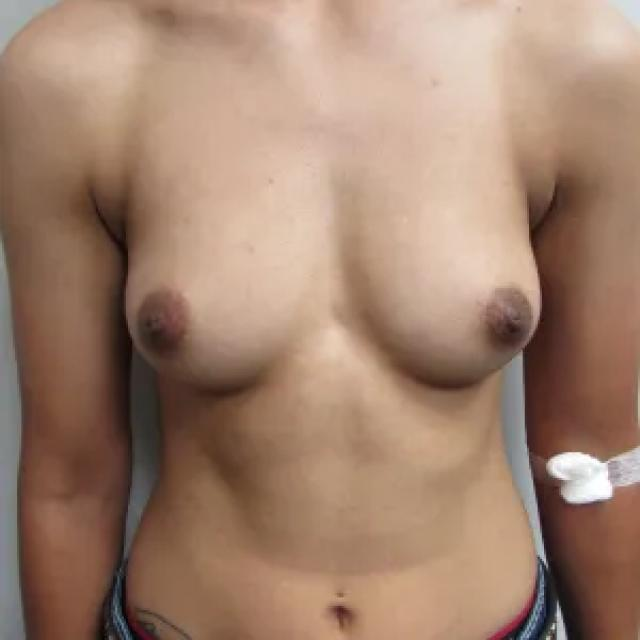Seno ileso: (336, 174, 548, 406), (118, 175, 327, 409)
